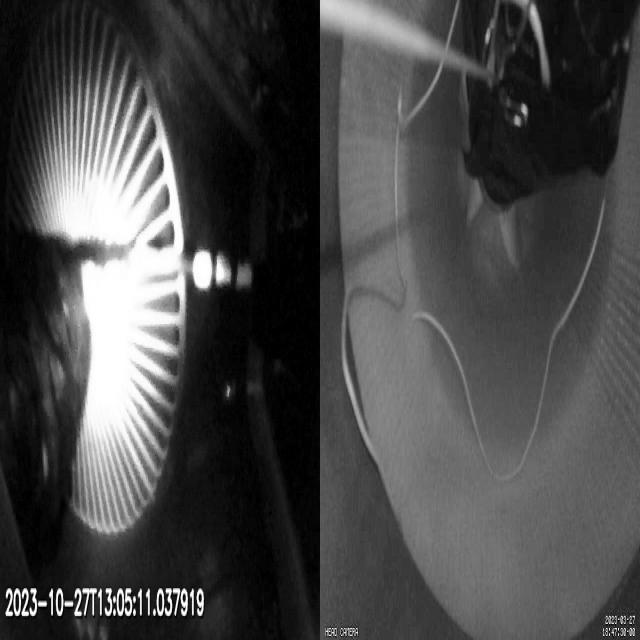white-dots: (191, 249, 252, 292)
